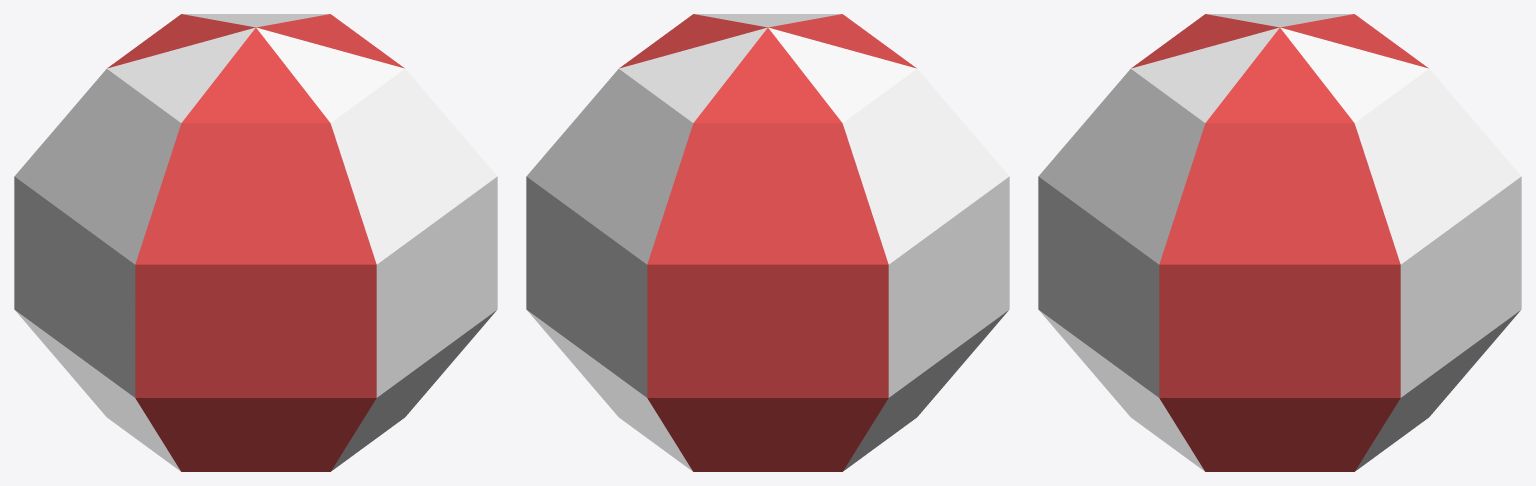
File: Resources__items__purchasable__Badball.glb
The picture shows the model from 3 angles, left to right: view 1: azimuth 30°, elevation 25°; view 2: azimuth 150°, elevation 25°; view 3: azimuth 270°, elevation 25°; orthographic projection.
Parts seen in each view (by area): view 1: Ball; view 2: Ball; view 3: Ball.
Part boxes in pixels (left/top/right/bottom): Ball: left=14, top=14, right=497, bottom=471; Ball: left=526, top=14, right=1009, bottom=471; Ball: left=1038, top=14, right=1521, bottom=471.
Bounding box in the file's own units: 0.566 × 0.6435 × 0.6536.
1 material, 1 textured.
